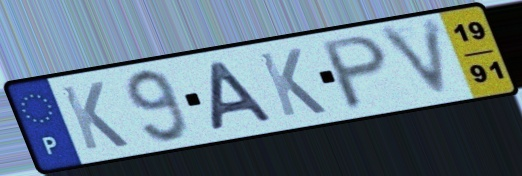9: (120, 66, 194, 146)
A: (204, 58, 279, 134)
K: (254, 46, 331, 120), (56, 79, 133, 153)
P: (319, 32, 392, 114)
V: (374, 14, 455, 103)
